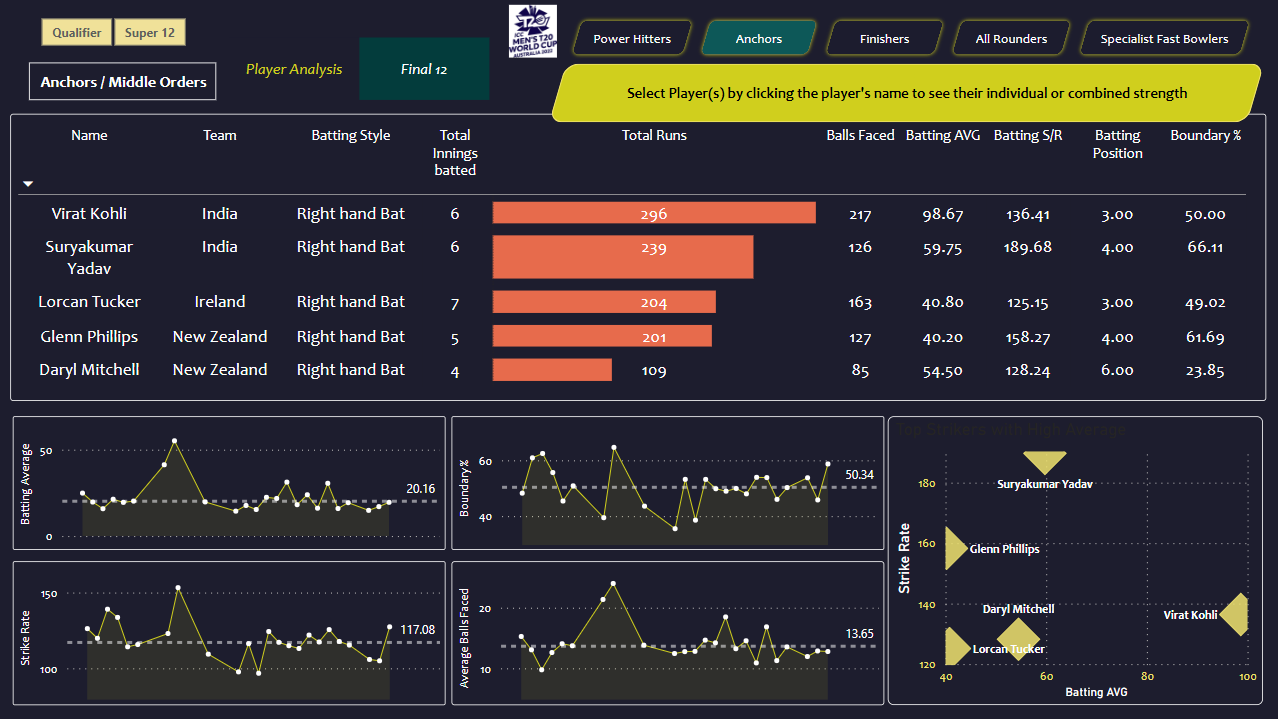

The dashboard page shown, as its layout file describes it:
{"tool":"powerbi","page":{"name":"Anchors/Middle Orders","canvas":[1280,720],"ordinal":1},"visuals":[{"type":"tableEx","fields":{"Values":["dim_players.name","dim_players.team","dim_players.battingStyle","Key_majors.Total Innings batted","Key_majors.Total Runs","Key_majors.Total Balls Faced","Key_majors.Batting Average","Key_majors.Strike Rate","Key_majors.Batting Position","Key_majors.Boundary %"]},"box":[11.2,113.8,1256.2,287.5],"z":0},{"type":"shape","box":[550,63.8,715,58.8],"z":1000},{"type":"card","fields":{"Values":["Key_majors.Batting Average"]},"box":[708.8,57.5,132.5,63.8],"z":2000},{"type":"card","fields":{"Values":["Key_majors.Strike Rate"]},"box":[841.2,53.8,132.5,63.8],"z":3000},{"type":"card","fields":{"Values":["Key_majors.Average Balls Faced"]},"box":[1107.5,55,132.5,63.8],"z":4000},{"type":"card","fields":{"Values":["Key_majors.Boundary %"]},"box":[975,57.5,132.5,63.8],"z":5000},{"type":"shape","box":[568.8,71.2,156.2,36.2],"z":6000},{"type":"stackedAreaChart","fields":{"Y":["Key_majors.Batting Average"],"Category":["dim_match_summary.matchDate.Variation.Date Hierarchy.Day"]},"box":[13.8,416.2,432.5,133.8],"z":7000},{"type":"stackedAreaChart","fields":{"Y":["Key_majors.Boundary %"],"Category":["dim_match_summary.matchDate.Variation.Date Hierarchy.Day"]},"box":[452.5,416.2,432.5,133.8],"z":8000},{"type":"stackedAreaChart","fields":{"Category":["dim_match_summary.matchDate.Variation.Date Hierarchy.Day"],"Y":["Key_majors.Average Balls Faced"]},"box":[452.5,561.2,432.5,143.8],"z":9000},{"type":"stackedAreaChart","fields":{"Category":["dim_match_summary.matchDate.Variation.Date Hierarchy.Day"],"Y":["Key_majors.Strike Rate"]},"box":[13.8,561.2,432.5,143.8],"z":10000},{"type":"shape","box":[618.8,75,578.8,36.2],"z":11000},{"type":"scatterChart","title":"Top Strikers with High Average","fields":{"X":["Key_majors.Batting Average"],"Y":["Key_majors.Strike Rate"],"Category":["dim_players.name"]},"box":[888.8,416.2,375,288.8],"z":12000},{"type":"actionButton","box":[568.8,16.2,128.8,42.5],"z":13000},{"type":"actionButton","box":[697.5,16.2,125,42.5],"z":14000},{"type":"actionButton","box":[822.5,16.2,126.2,42.5],"z":15000},{"type":"actionButton","box":[948.8,16.2,127.5,42.5],"z":16000},{"type":"actionButton","box":[1076.2,16.2,178.8,42.5],"z":17000},{"type":"actionButton","box":[360.6,37.4,130.3,62.7],"z":18000},{"type":"slicer","fields":{"Values":["dim_match_summary.Stage"]},"box":[15.7,10.9,194.2,41],"z":19000},{"type":"shape","box":[30,62.5,187.5,37.5],"z":20000},{"type":"actionButton","box":[230.4,37.4,130.3,62.7],"z":21000},{"type":"image","box":[499.3,0,69.9,62.7],"z":22000}]}

Visuals, with their boxes in screenshot pixels (x1, y1, x2, y2), scaled from the page's 1280x720 canvas onto the 1278x719 screenshot:
tableEx - dim_players.name x dim_players.team: box(11, 114, 1265, 401)
shape: box(549, 64, 1263, 122)
card - Key_majors.Batting Average: box(708, 57, 840, 121)
card - Key_majors.Strike Rate: box(840, 54, 972, 117)
card - Key_majors.Average Balls Faced: box(1106, 55, 1238, 119)
card - Key_majors.Boundary %: box(973, 57, 1106, 121)
shape: box(568, 71, 724, 107)
stackedAreaChart - Key_majors.Batting Average x dim_match_summary.matchDate.Variation.Date Hierarchy.Day: box(14, 416, 446, 549)
stackedAreaChart - Key_majors.Boundary % x dim_match_summary.matchDate.Variation.Date Hierarchy.Day: box(452, 416, 884, 549)
stackedAreaChart - dim_match_summary.matchDate.Variation.Date Hierarchy.Day x Key_majors.Average Balls Faced: box(452, 560, 884, 704)
stackedAreaChart - dim_match_summary.matchDate.Variation.Date Hierarchy.Day x Key_majors.Strike Rate: box(14, 560, 446, 704)
shape: box(618, 75, 1196, 111)
"Top Strikers with High Average" scatterChart: box(887, 416, 1262, 704)
actionButton: box(568, 16, 697, 59)
actionButton: box(696, 16, 821, 59)
actionButton: box(821, 16, 947, 59)
actionButton: box(947, 16, 1075, 59)
actionButton: box(1075, 16, 1253, 59)
actionButton: box(360, 37, 490, 100)
slicer - dim_match_summary.Stage: box(16, 11, 210, 52)
shape: box(30, 62, 217, 100)
actionButton: box(230, 37, 360, 100)
image: box(499, 0, 568, 63)
